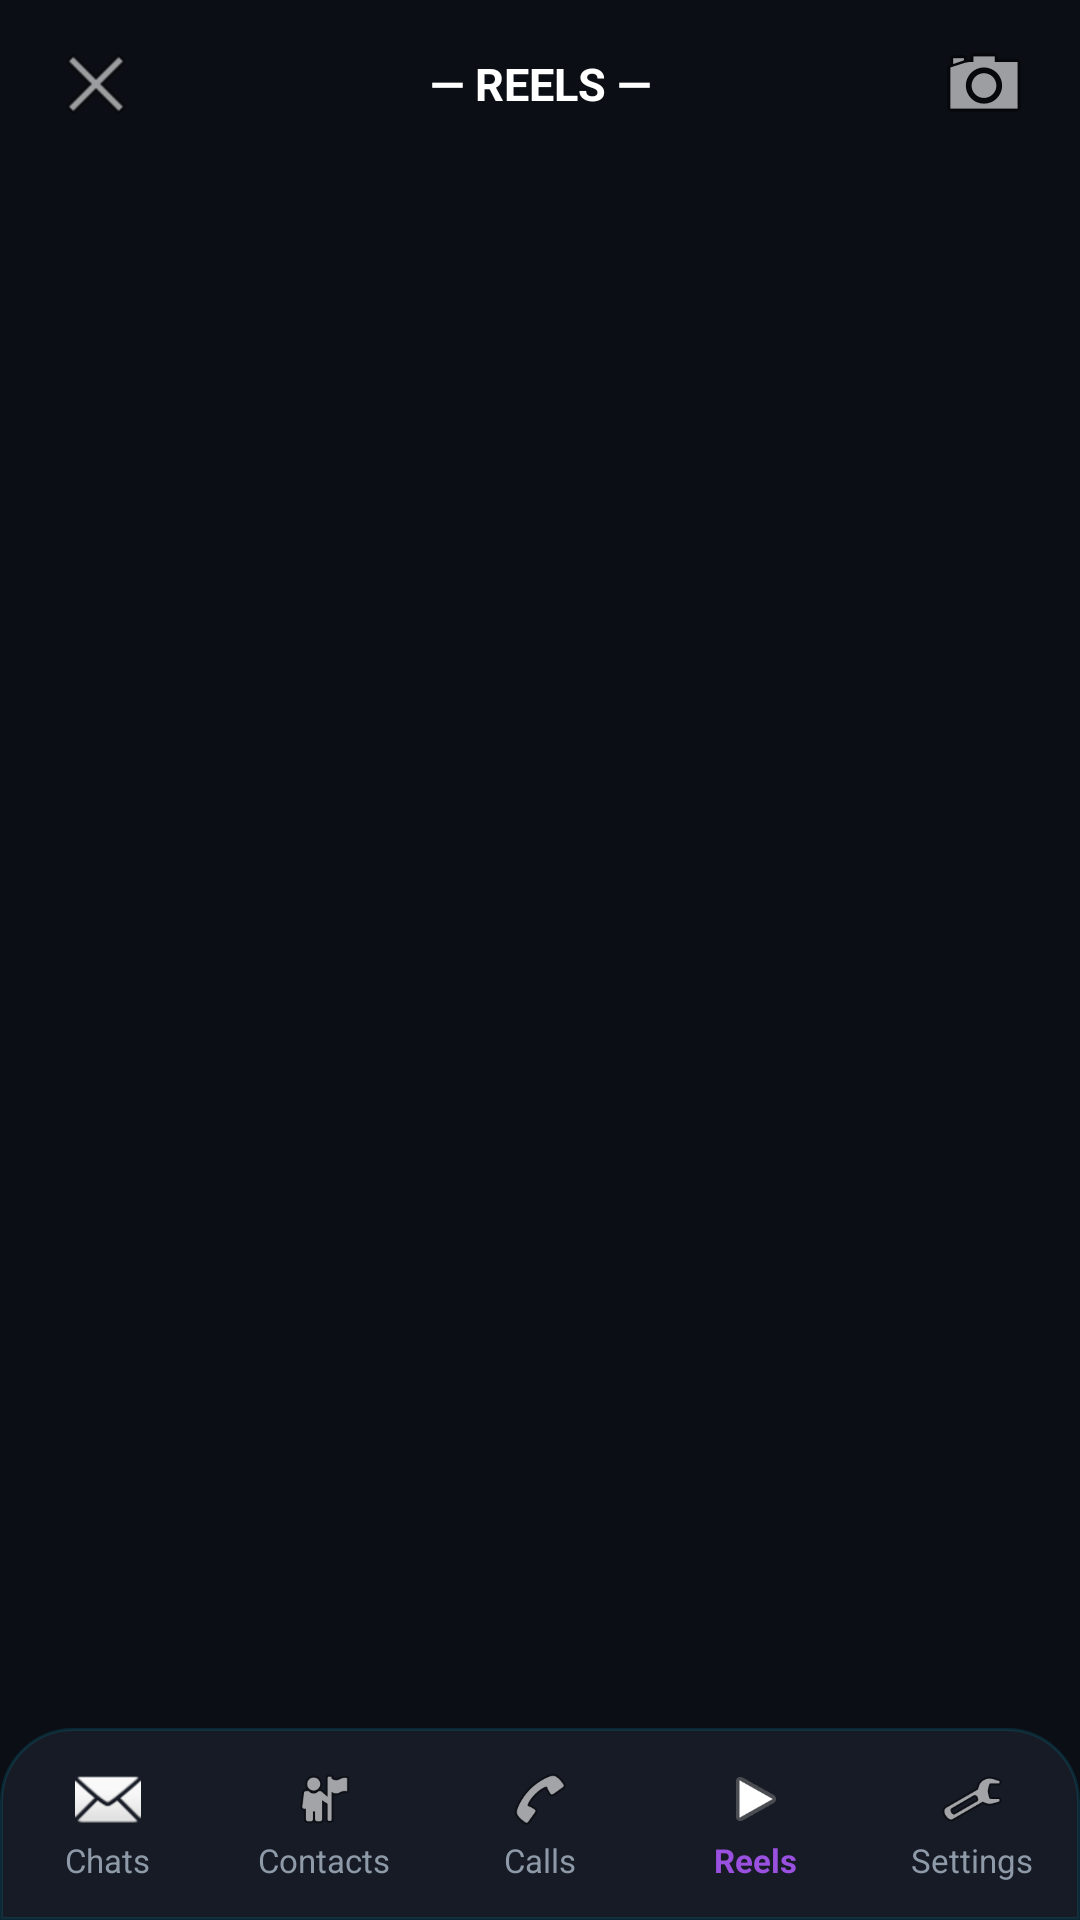

Named icons in this screenshot (1080x1920) and their centers, point (x, y):
camera: point (984, 82)
close clear cancel: point (96, 84)
email: point (108, 1799)
manage: point (972, 1799)
myplaces: point (324, 1799)
play: point (756, 1799)
